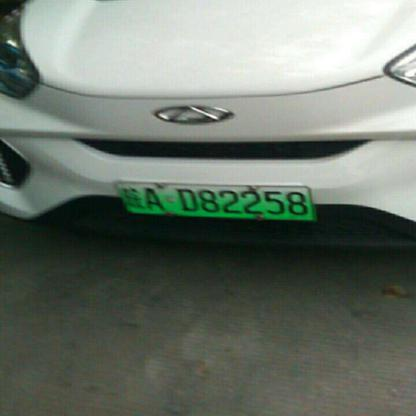lp: (116, 182, 316, 221)
